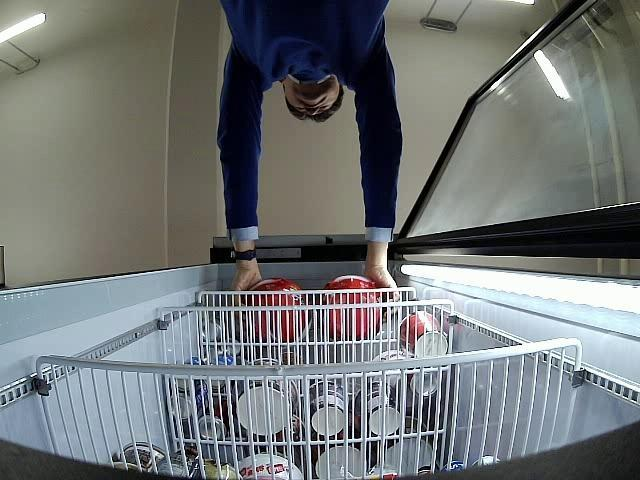10_wangTtukkeong: (246, 280, 306, 341), (326, 276, 379, 340)
